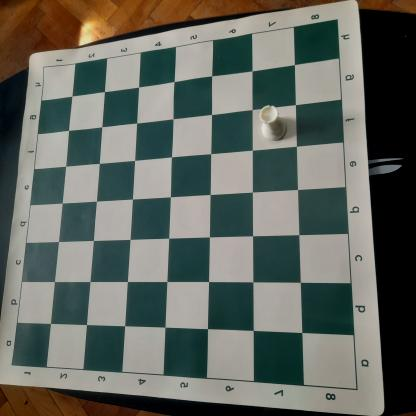white-rook: (256, 103, 289, 142)
